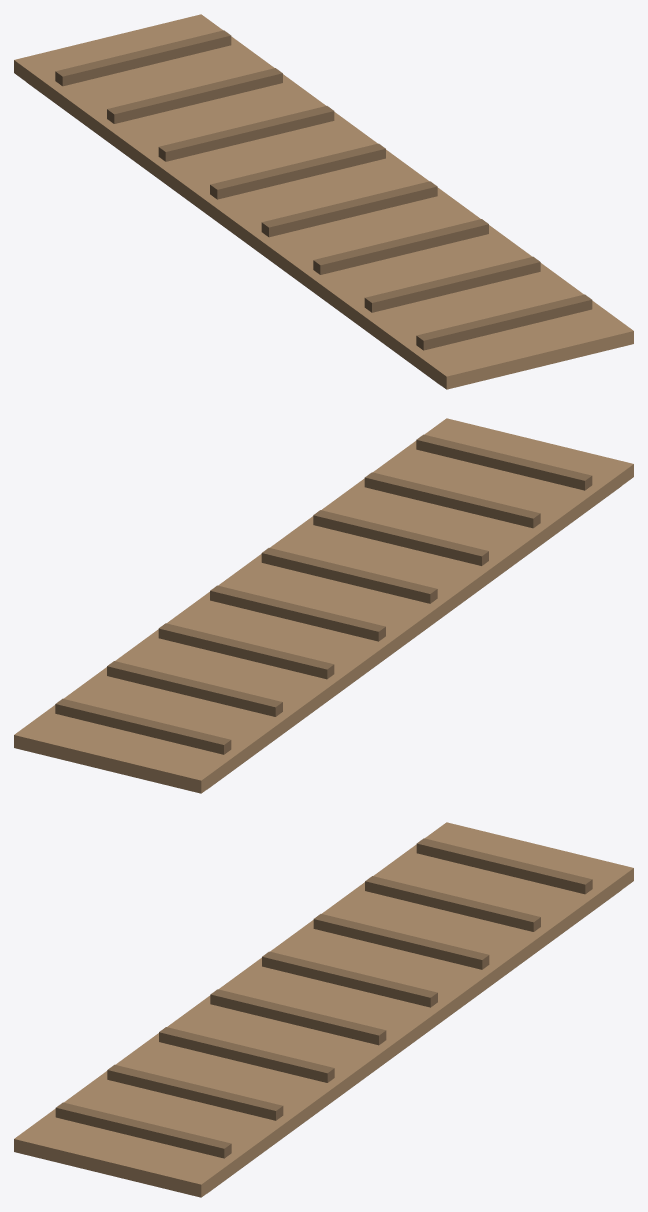
The model's file is prop-gangplank.fbx.
The picture shows the model from 3 angles, top to bottom: view 1: azimuth 30°, elevation 25°; view 2: azimuth 150°, elevation 25°; view 3: azimuth 330°, elevation 25°; orthographic projection.
Parts seen in each view (by area): view 1: prop-gangplank; view 2: prop-gangplank; view 3: prop-gangplank.
Boxes of the visible parts, bbox=[...] form: prop-gangplank: bbox=[14, 14, 633, 389]; prop-gangplank: bbox=[14, 418, 633, 793]; prop-gangplank: bbox=[14, 822, 633, 1197].
Size of the model in its own units: 60 by 8 by 240.
